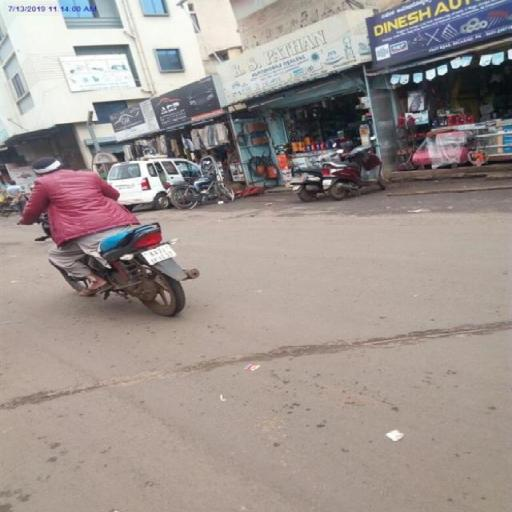using mobile: (34, 174, 45, 179)
